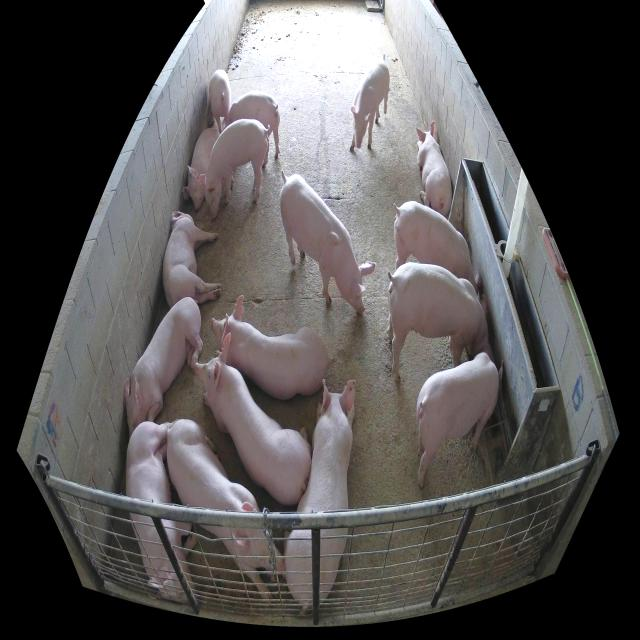pig: (169, 416, 284, 606), (194, 331, 311, 504), (282, 377, 356, 609), (126, 416, 204, 605), (279, 175, 376, 315), (386, 262, 490, 386), (417, 348, 504, 489), (211, 294, 330, 396), (125, 299, 203, 438), (394, 202, 482, 297), (199, 119, 271, 220), (162, 211, 222, 307), (348, 57, 390, 155), (227, 92, 280, 169), (416, 119, 452, 217), (183, 128, 220, 211), (209, 70, 231, 133)
